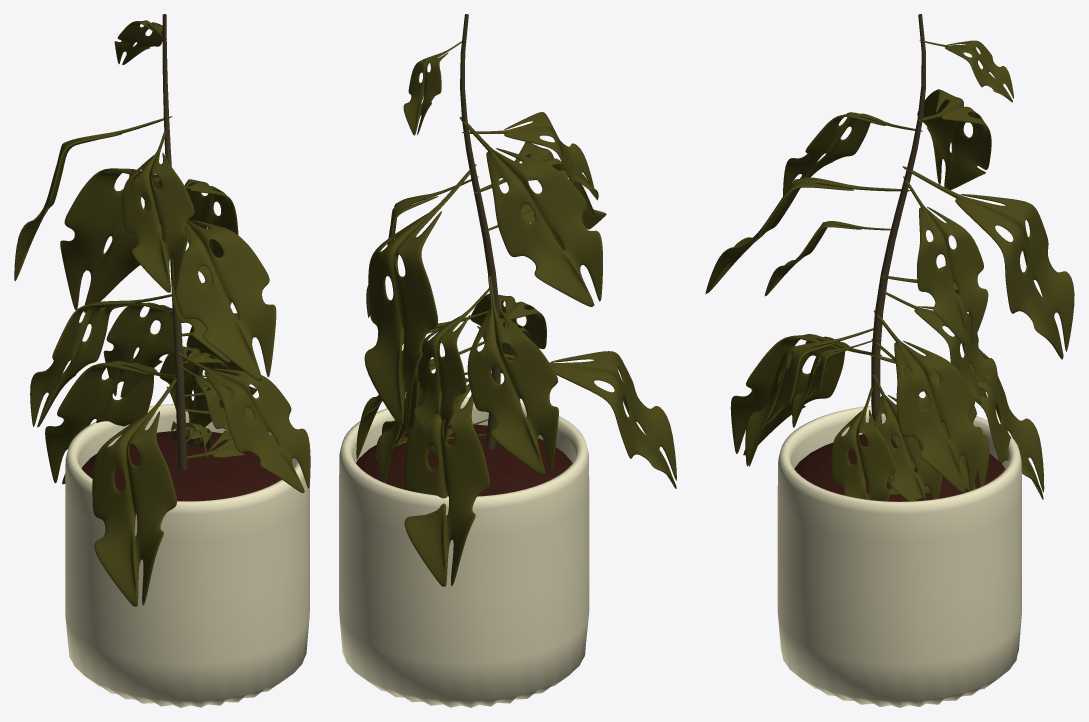
The model's file is plant_decay.glb.
3 views of the same model, side by side, from view 1: azimuth 30°, elevation 25°; view 2: azimuth 150°, elevation 25°; view 3: azimuth 270°, elevation 25° (orthographic). The views are drawn at different scales.
Visible parts, largest first — view 1: Dried Leaf (×16), pot, Sphere, stem; view 2: Dried Leaf (×13), pot, Sphere, stem; view 3: Dried Leaf (×16), pot, stem, Sphere.
Boxes of the visible parts, box(x1,y1,x2,y2) form: Dried Leaf (×16): box(14, 20, 310, 606); pot: box(65, 404, 309, 707); Sphere: box(81, 431, 281, 501); stem: box(162, 14, 187, 470); Dried Leaf (×13): box(356, 41, 676, 586); pot: box(339, 397, 589, 707); Sphere: box(356, 424, 572, 496); stem: box(460, 14, 500, 449); Dried Leaf (×16): box(705, 40, 1074, 501); pot: box(777, 404, 1021, 707); stem: box(871, 14, 925, 423); Sphere: box(794, 434, 1005, 501).
Size of the model in its own units: 2.44 by 5.87 by 3.
